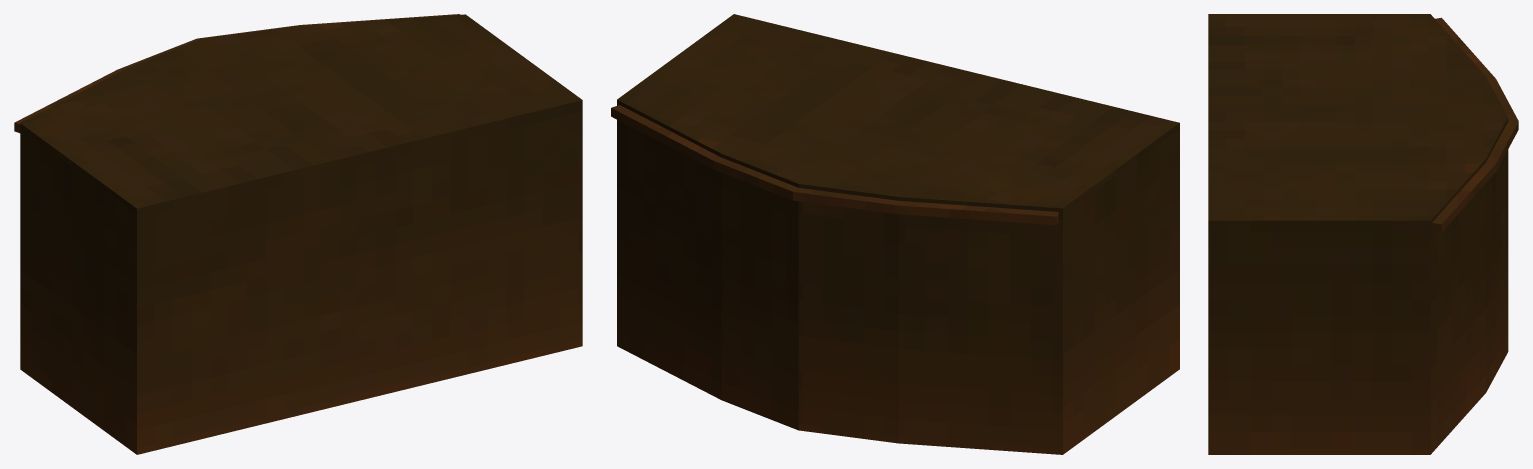
The model's file is CoxiaTetoTeatro.fbx.
The picture shows the model from 3 angles, left to right: view 1: azimuth 30°, elevation 25°; view 2: azimuth 150°, elevation 25°; view 3: azimuth 270°, elevation 25°; orthographic projection. The views are drawn at different scales.
Parts seen in each view (by area): view 1: Cube.061; view 2: Cube.061; view 3: Cube.061.
Boxes of the visible parts, x1,y1,x2,y2 form: Cube.061: (14,14,582,454); Cube.061: (611,14,1179,454); Cube.061: (1208,14,1518,454).
Bounding box in the file's own units: 499 × 264 × 317.
1 material, 1 textured.
